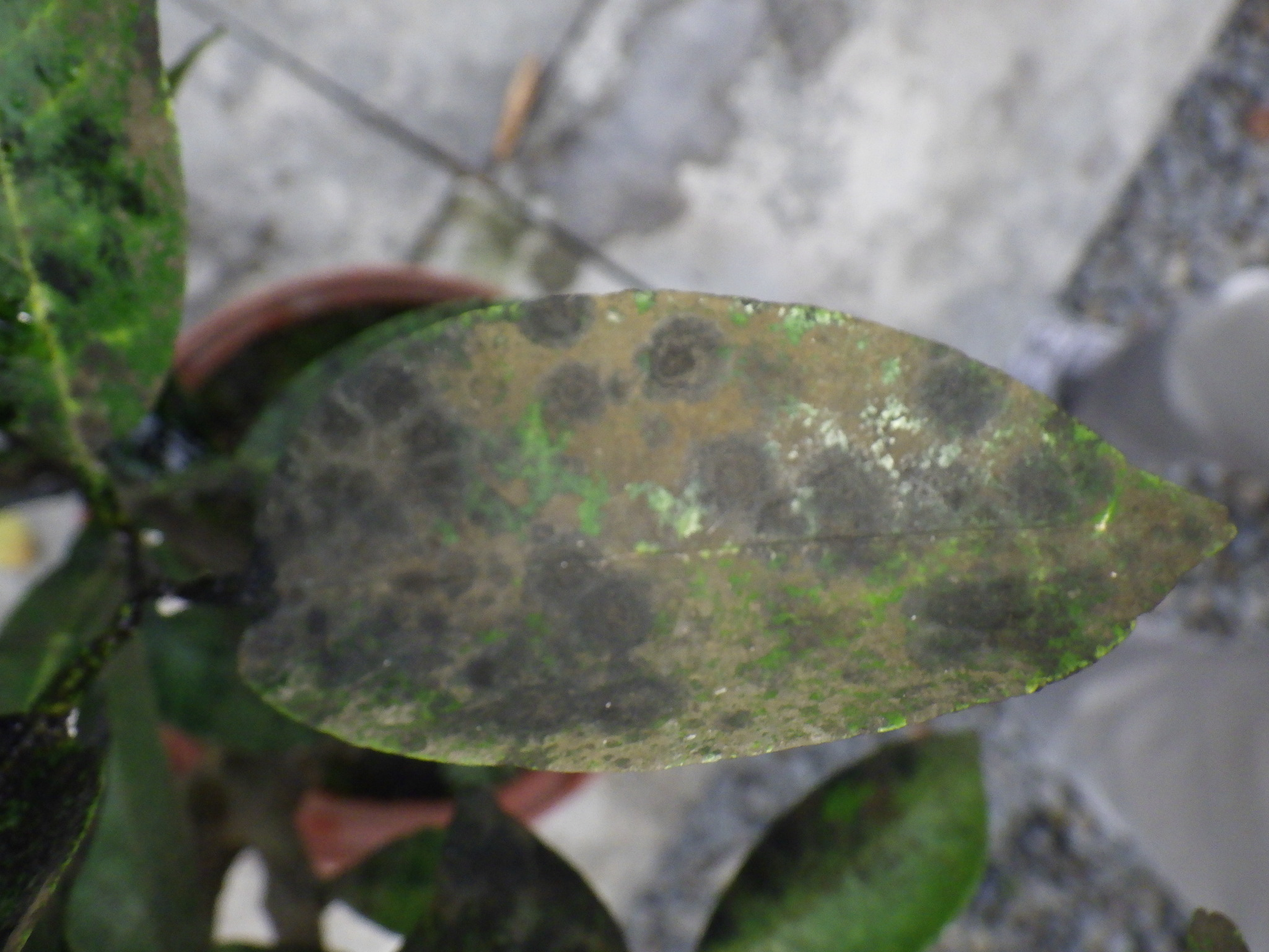Sooty_Mold: (242, 291, 1231, 769)
